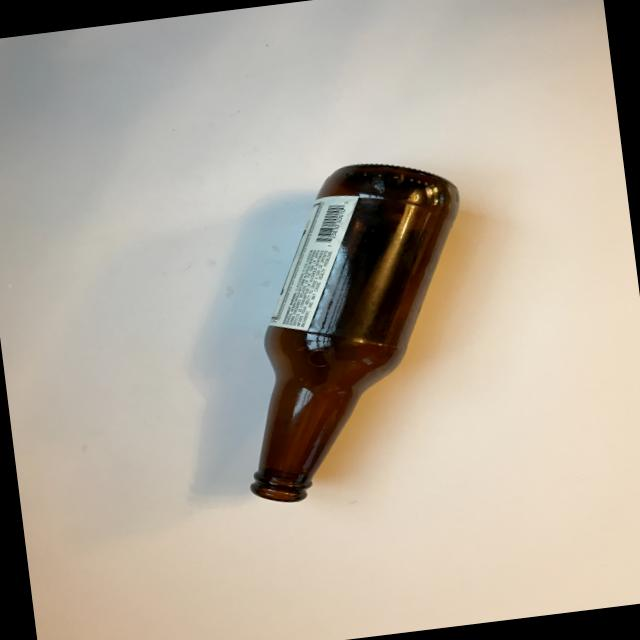Glass: (195, 130, 510, 520)
